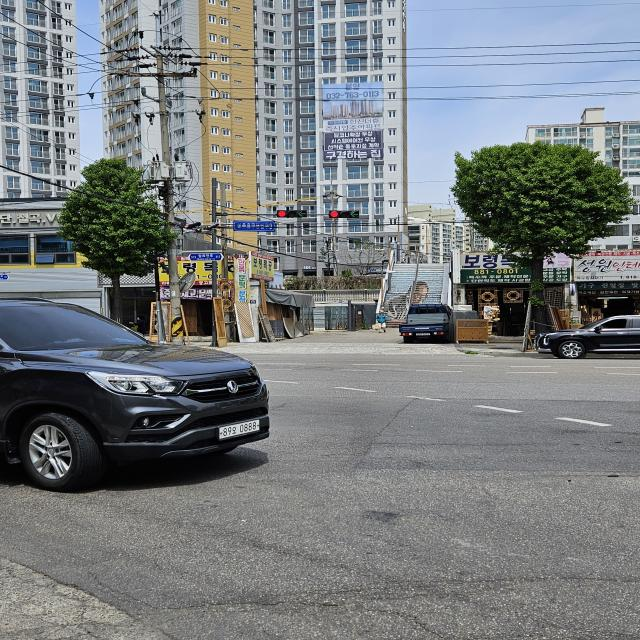Red Light: (277, 210, 288, 218), (329, 211, 339, 218)
